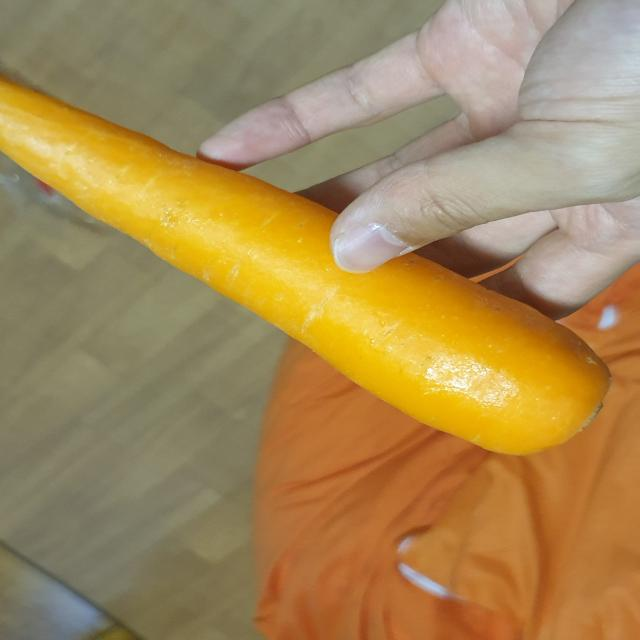Carrot: (0, 68, 623, 465)
